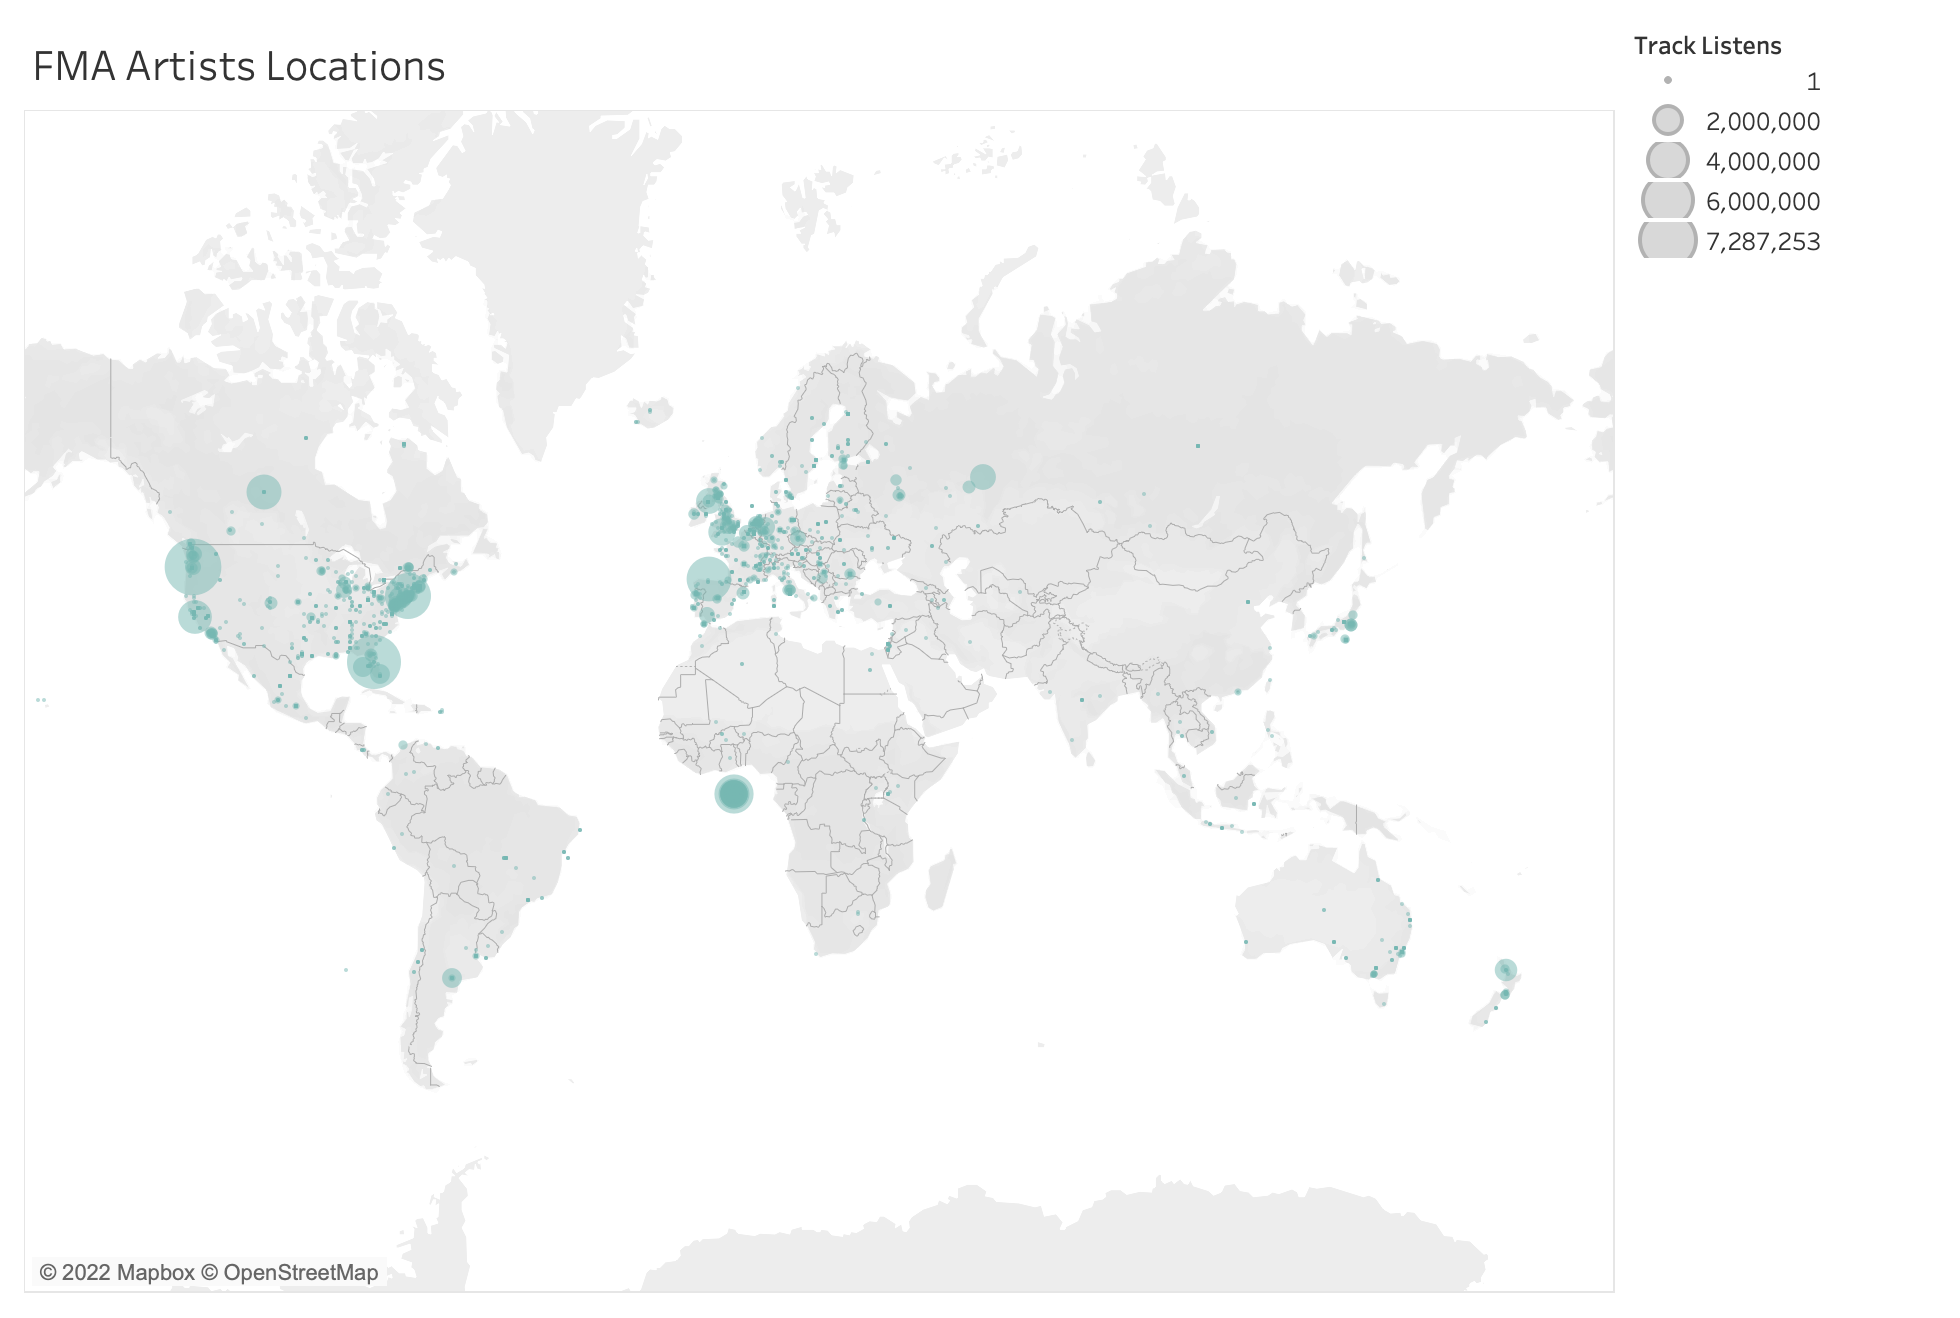

The dashboard page shown, as its layout file describes it:
{"tool":"tableau","page":{"name":"Dashboard 1 (2)","canvas":[1600,900],"ordinal":1},"visuals":[{"type":"worksheet","title":"Sheet 1","mark":"Automatic","box":[8,8,1584,884]}]}

Visuals, with their boxes on the page's 1600x900 design canvas (x1, y1, x2, y2). These are canvas units, not pixel positions in the 1960x1318 screenshot, which may show the page scaled, cropped or inside an application window:
"Sheet 1" worksheet: <box>8,8,1592,892</box>
